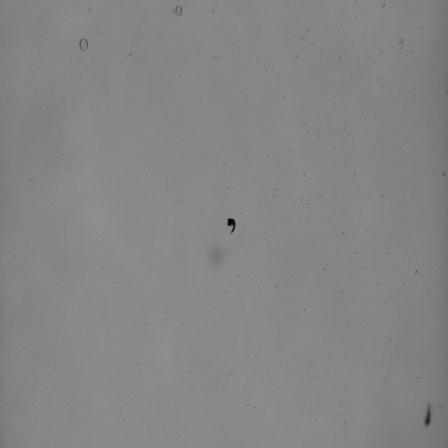Jentik-Nyamuk: (222, 214, 240, 237)
